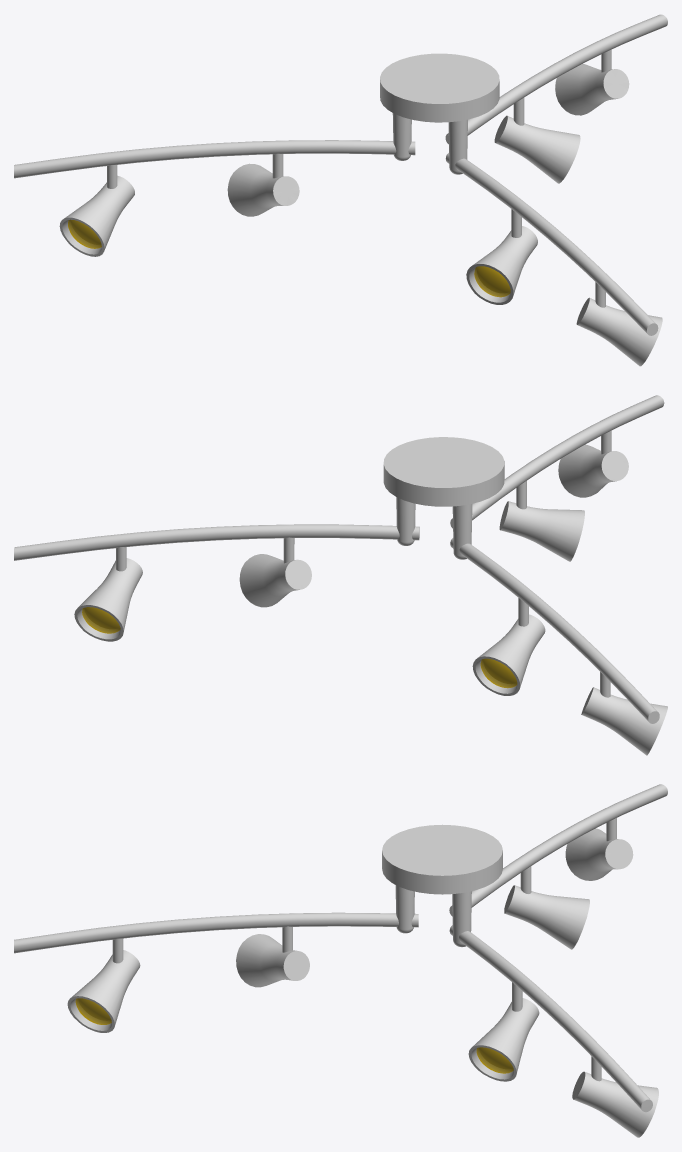
File: Spot4_5.fbx
3 renders of one model, top to bottom at view 1: azimuth 30°, elevation 25°; view 2: azimuth 150°, elevation 25°; view 3: azimuth 270°, elevation 25°, orthographic.
Visible parts, largest first — view 1: pCylinder1391, pCylinder1393, pCylinder1394, pCylinder1398, pCylinder1405, pCylinder1392, pCylinder1401, pCylinder1407, pCylinder1400, pCylinder1397, pCylinder1395, pSphere193 (+1 smaller); view 2: pCylinder1391, pCylinder1392, pCylinder1393, pCylinder1407, pCylinder1397, pCylinder1401, pCylinder1394, pCylinder1398, pCylinder1405, pCylinder1400, pCylinder1395, pSphere195 (+1 smaller); view 3: pCylinder1391, pCylinder1394, pCylinder1392, pCylinder1398, pCylinder1400, pCylinder1407, pCylinder1393, pCylinder1401, pCylinder1397, pCylinder1405, pCylinder1395, pSphere191 (+1 smaller).
Part boxes in pixels (x1,y1,x2,y2): pCylinder1391: (380, 53, 499, 122); pCylinder1393: (14, 140, 415, 178); pCylinder1394: (445, 153, 658, 335); pCylinder1398: (494, 115, 580, 183); pCylinder1405: (59, 175, 134, 256); pCylinder1392: (445, 14, 667, 144); pCylinder1401: (466, 226, 537, 304); pCylinder1407: (227, 163, 299, 216); pCylinder1400: (576, 297, 662, 366); pCylinder1397: (555, 63, 629, 115); pCylinder1395: (392, 113, 467, 174); pSphere193: (474, 266, 510, 297); pCylinder1391: (383, 437, 504, 506); pCylinder1392: (14, 524, 419, 560); pCylinder1393: (450, 538, 659, 723); pCylinder1407: (472, 614, 545, 695); pCylinder1397: (74, 558, 142, 641); pCylinder1401: (499, 501, 584, 561); pCylinder1394: (450, 395, 664, 528); pCylinder1398: (239, 554, 311, 607); pCylinder1405: (581, 687, 667, 755); pCylinder1400: (558, 444, 628, 497); pCylinder1395: (396, 497, 472, 559); pSphere195: (480, 658, 517, 688); pCylinder1391: (382, 824, 502, 894); pCylinder1394: (14, 912, 418, 953); pCylinder1392: (449, 925, 652, 1112); pCylinder1398: (468, 998, 539, 1081); pCylinder1400: (67, 950, 140, 1032); pCylinder1407: (504, 885, 589, 949); pCylinder1393: (449, 784, 667, 916); pCylinder1401: (236, 934, 309, 987); pCylinder1397: (572, 1071, 658, 1137); pCylinder1405: (565, 828, 633, 880); pCylinder1395: (395, 885, 471, 947); pSphere191: (476, 1047, 513, 1073).
Bounding box in the file's own units: 66.46 × 16.35 × 57.76.
